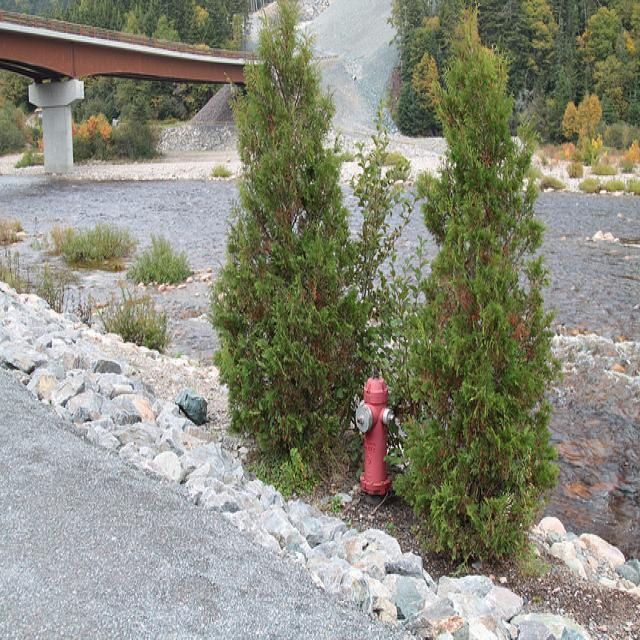fire_hydrant: (354, 368, 394, 496)
